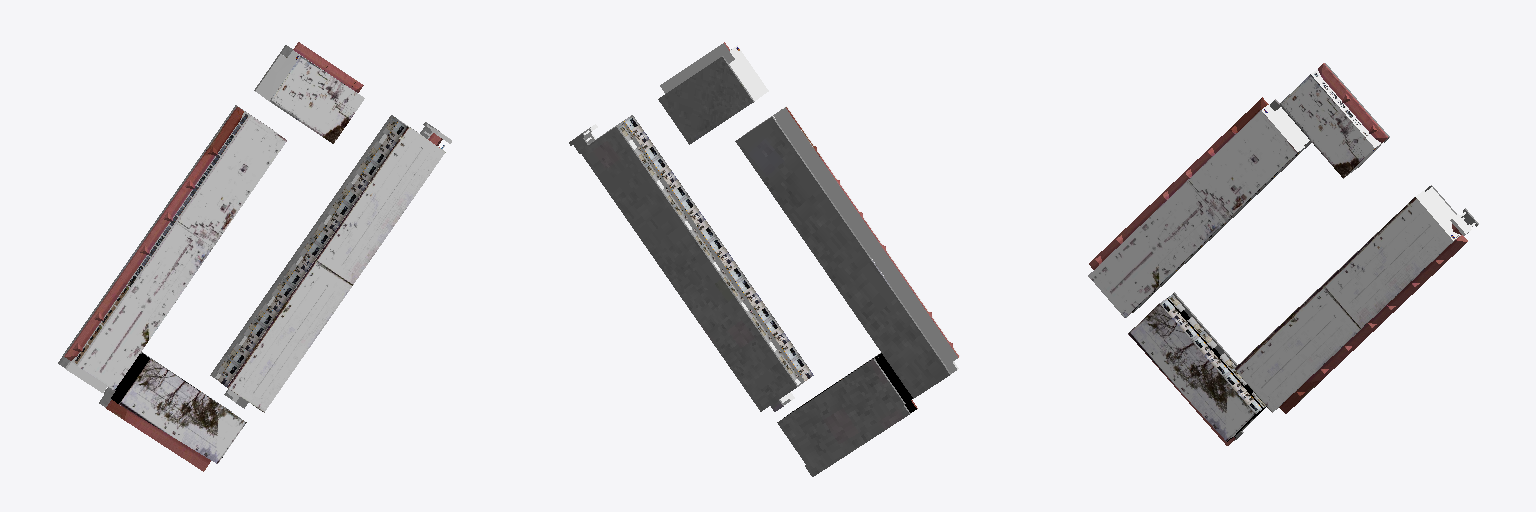
The picture shows the model from 3 angles: view 1: azimuth 30°, elevation 25°; view 2: azimuth 150°, elevation 25°; view 3: azimuth 330°, elevation 25°; orthographic projection.
Visible parts, largest first — view 1: polygon.809; view 2: polygon.809; view 3: polygon.809.
Boxes of the visible parts, box(x1,y1,x2,y2) form: polygon.809: box(58, 42, 451, 471); polygon.809: box(569, 42, 959, 476); polygon.809: box(1088, 63, 1478, 445).
Bounding box in the file's own units: 109 × 110 × 8.04.
Materials: 1 (1 with a texture image).